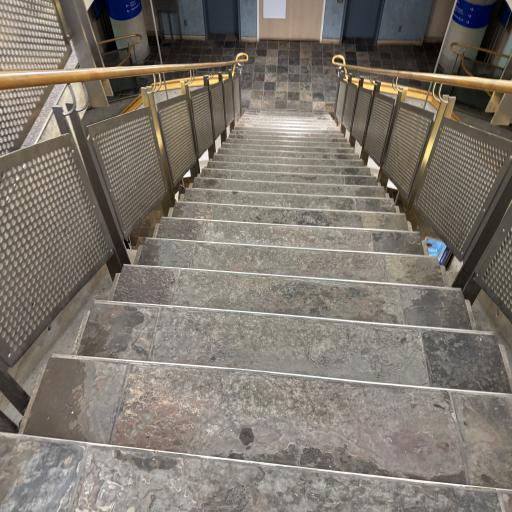Stairs: (0, 109, 512, 512), (0, 434, 512, 512), (137, 238, 443, 286), (158, 216, 424, 254), (173, 201, 408, 231)
